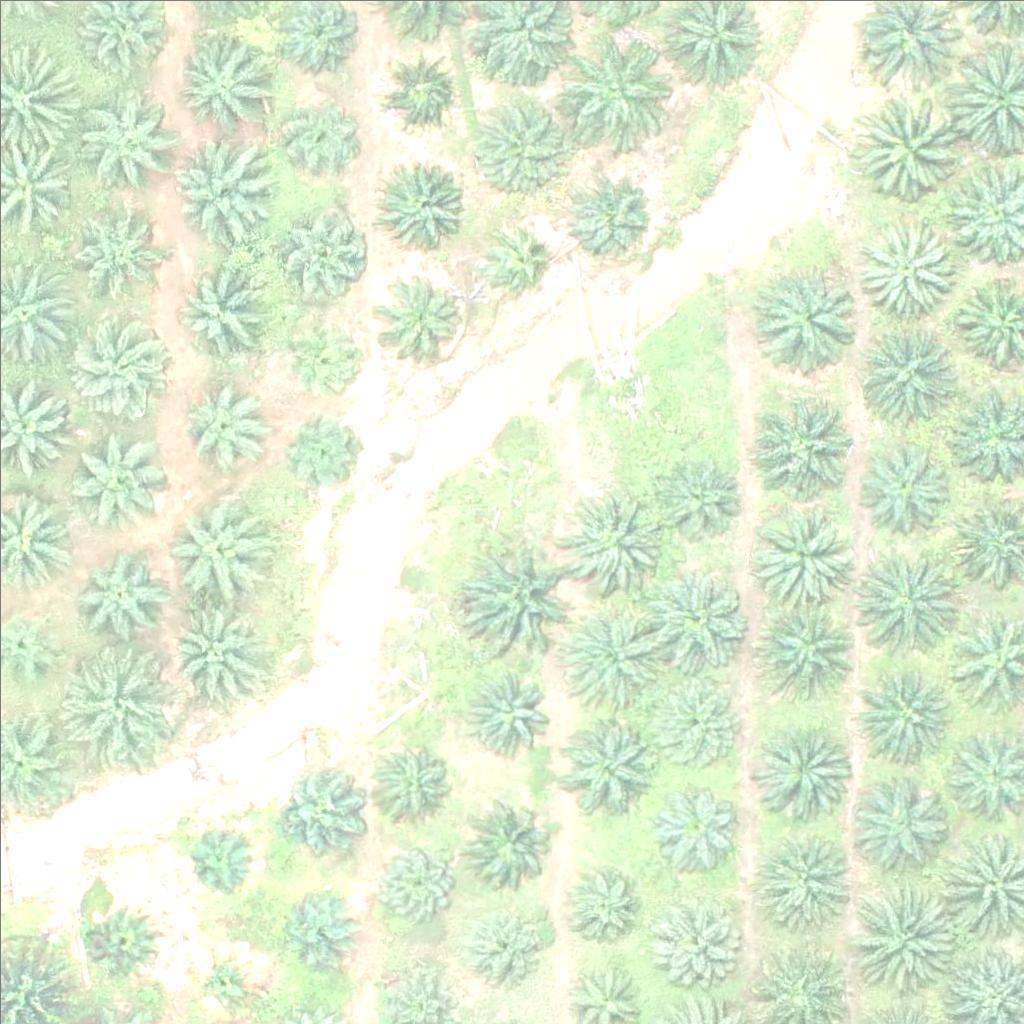Kelapa_Sawit: (61, 644, 174, 758), (844, 885, 957, 998), (463, 540, 576, 653), (853, 88, 965, 201), (561, 603, 673, 716), (849, 545, 961, 658), (848, 773, 948, 874), (751, 823, 851, 924), (750, 715, 850, 816), (77, 81, 177, 182), (170, 35, 270, 136), (576, 35, 676, 136), (761, 263, 861, 364), (854, 214, 954, 315), (69, 315, 169, 416), (177, 374, 277, 475), (567, 491, 667, 592), (642, 574, 742, 675), (758, 505, 858, 606), (758, 593, 858, 694), (854, 661, 954, 762), (642, 777, 742, 877), (556, 713, 656, 813), (171, 255, 271, 355), (168, 139, 268, 239), (469, 101, 569, 201), (856, 313, 956, 413), (65, 431, 165, 531), (161, 601, 261, 701), (170, 495, 270, 595), (752, 396, 852, 496), (856, 437, 956, 537), (563, 857, 651, 946), (649, 681, 737, 770), (273, 759, 361, 847), (67, 197, 155, 285), (279, 310, 367, 398), (275, 92, 363, 180), (566, 172, 654, 260), (369, 732, 456, 820), (374, 839, 461, 927), (464, 900, 551, 988), (468, 800, 555, 888), (648, 888, 735, 976), (276, 892, 363, 980), (278, 209, 365, 297), (376, 268, 463, 356), (380, 163, 467, 251), (380, 45, 467, 133), (77, 546, 164, 634), (278, 409, 365, 497), (463, 663, 550, 751), (654, 456, 741, 544), (476, 218, 551, 294), (88, 903, 163, 979), (182, 821, 257, 896), (193, 944, 256, 1007)
